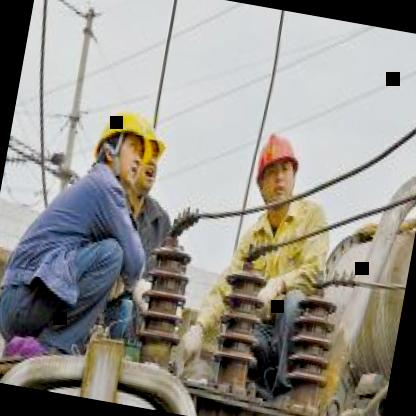helmet: (84, 98, 150, 196), (245, 119, 311, 216), (130, 121, 168, 196)
